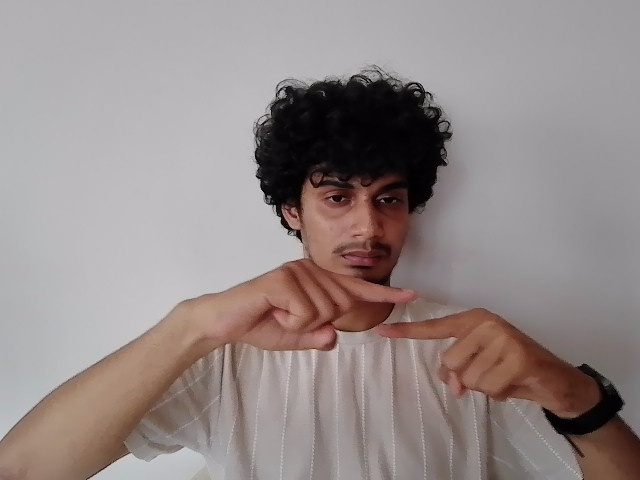about: (200, 260, 578, 403)
